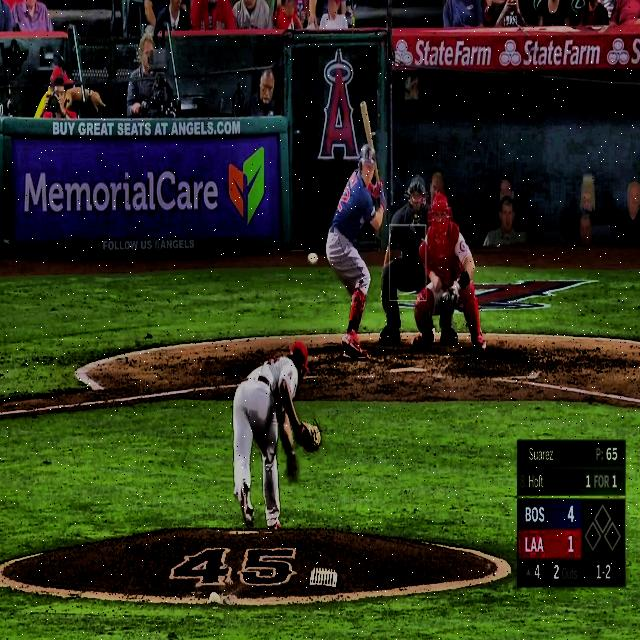baseball: (308, 252, 318, 266)
